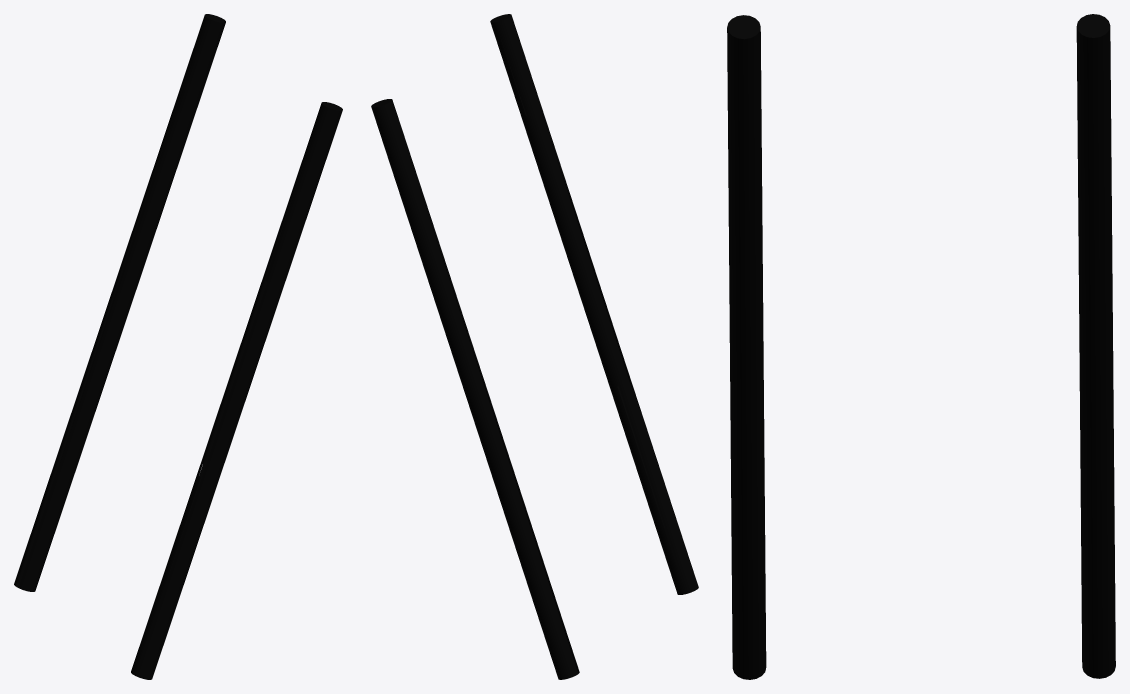
Rendered from zx200-boom-cyl2.dae.
3 renders of one model, left to right at view 1: azimuth 30°, elevation 25°; view 2: azimuth 150°, elevation 25°; view 3: azimuth 270°, elevation 25°, orthographic. The views are drawn at different scales.
Visible parts, largest first — view 1: body-boom-cyl2.002; view 2: body-boom-cyl2.002; view 3: body-boom-cyl2.002.
Boxes of the visible parts, left/top/right/bottom form: body-boom-cyl2.002: left=14, top=14, right=342, bottom=679; body-boom-cyl2.002: left=371, top=14, right=698, bottom=679; body-boom-cyl2.002: left=727, top=14, right=1115, bottom=679.
Bounding box in the file's own units: 0.6353 × 0.6925 × 1.55.
1 material, 1 textured.
